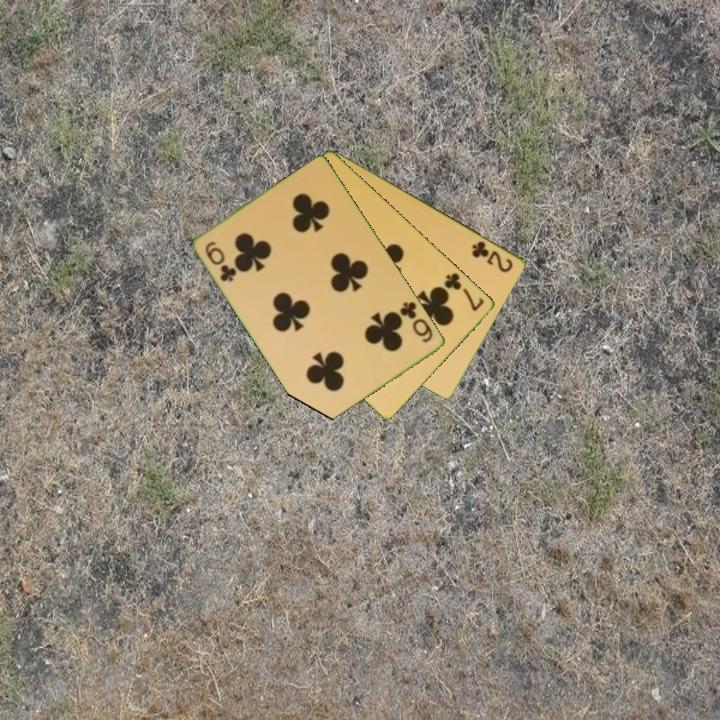2c: (468, 237, 516, 275)
6c: (397, 298, 436, 346), (202, 238, 240, 285)
7c: (441, 269, 488, 314)
